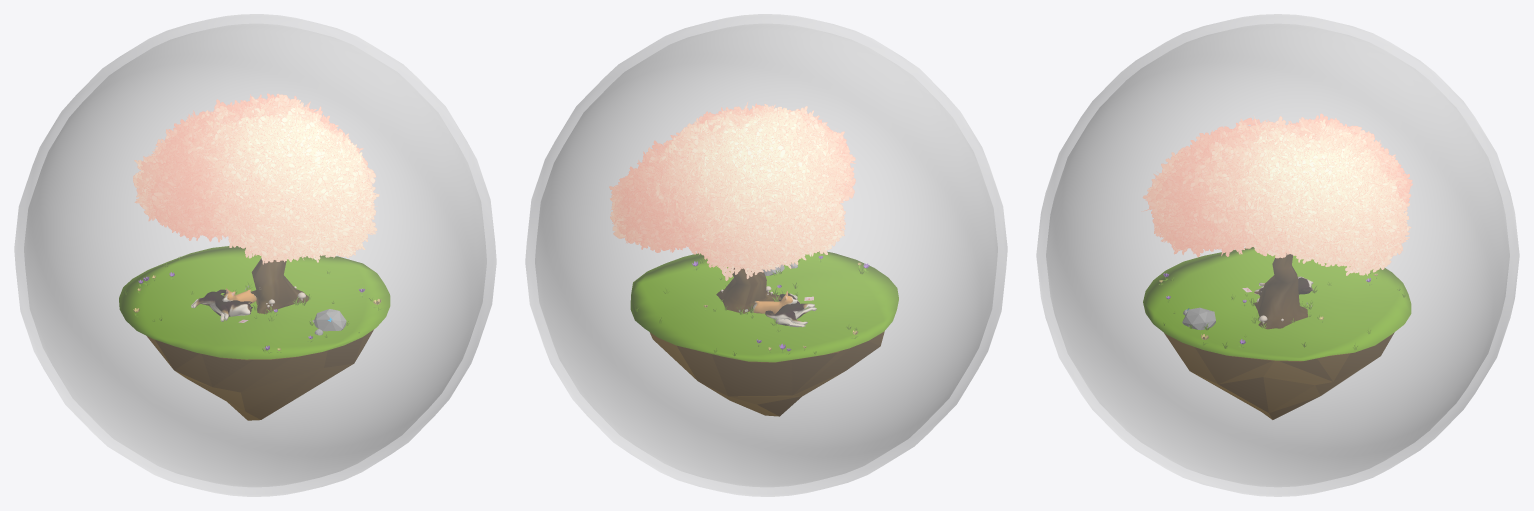
Rendered from tree.10.gltf.
The picture shows the model from 3 angles, left to right: view 1: azimuth 30°, elevation 25°; view 2: azimuth 150°, elevation 25°; view 3: azimuth 270°, elevation 25°; orthographic projection.
Visible parts, largest first — view 1: orb, Plane.0, base, base.001, tree-bark, shibe, Rock; view 2: orb, Plane.0, base, base.001, tree-bark, shibe; view 3: orb, Plane.0, base, base.001, tree-bark, Rock.
Boxes of the visible parts, x1=… form: orb: x1=14, y1=14, x2=496, y2=496; Plane.0: x1=133, y1=93, x2=379, y2=264; base: x1=119, y1=246, x2=390, y2=360; base.001: x1=147, y1=330, x2=373, y2=420; tree-bark: x1=251, y1=258, x2=308, y2=313; shibe: x1=191, y1=289, x2=252, y2=321; Rock: x1=314, y1=309, x2=346, y2=331; orb: x1=525, y1=14, x2=1007, y2=496; Plane.0: x1=609, y1=102, x2=855, y2=280; base: x1=630, y1=251, x2=898, y2=362; base.001: x1=650, y1=331, x2=884, y2=416; tree-bark: x1=716, y1=268, x2=781, y2=313; shibe: x1=765, y1=293, x2=816, y2=327; orb: x1=1036, y1=14, x2=1519, y2=496; Plane.0: x1=1143, y1=113, x2=1412, y2=275; base: x1=1143, y1=247, x2=1411, y2=361; base.001: x1=1164, y1=332, x2=1394, y2=419; tree-bark: x1=1253, y1=253, x2=1307, y2=329; Rock: x1=1182, y1=307, x2=1215, y2=330.
Size of the model in its own units: 22.69 by 22.69 by 22.69.
Materials: 18 (5 with a texture image).
